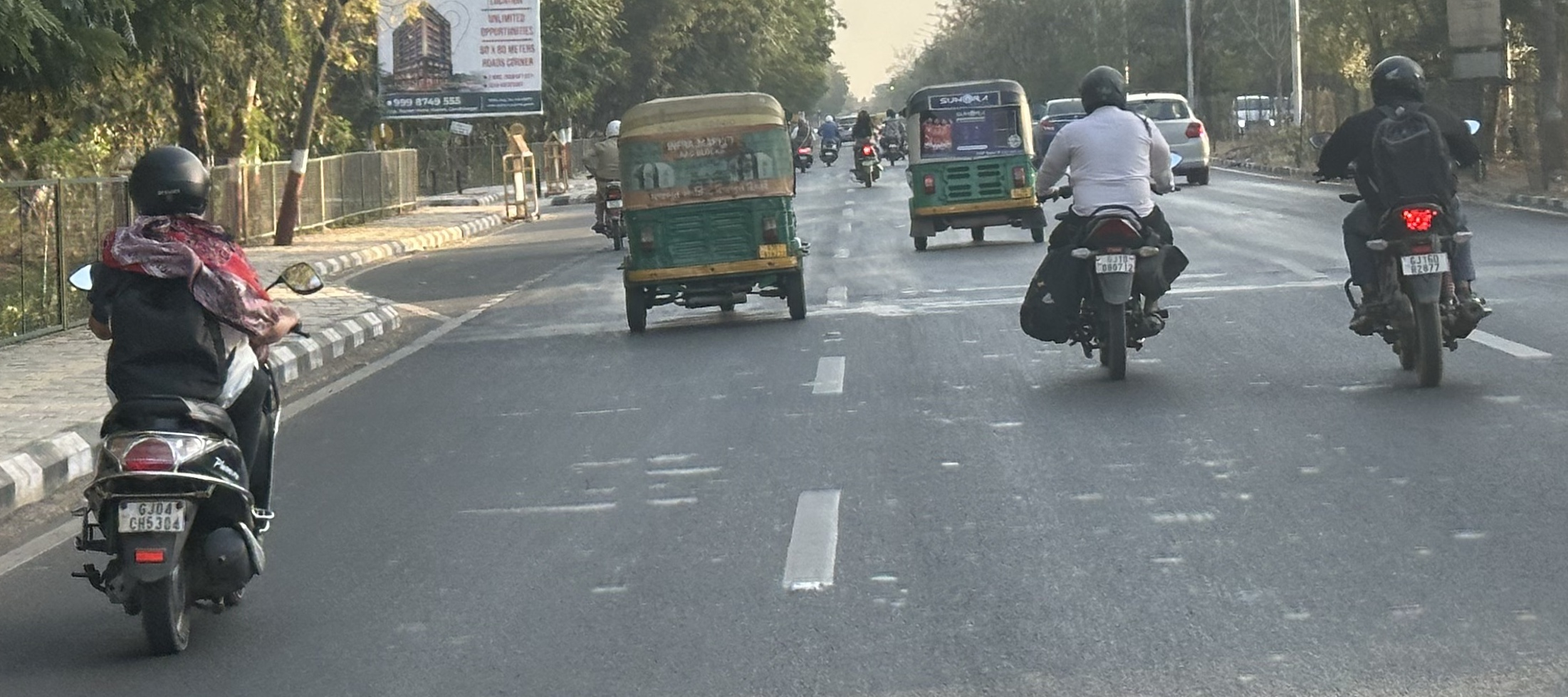BikeWithRider: (41, 125, 348, 676), (1294, 39, 1494, 396), (1005, 48, 1198, 390)
Helmet: (117, 138, 213, 233), (1352, 39, 1439, 116), (1082, 55, 1128, 122)
